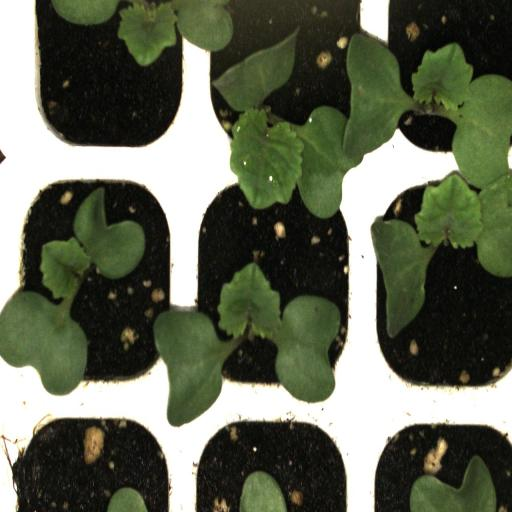Folha: (214, 32, 512, 337), (51, 0, 240, 67), (409, 455, 497, 512), (239, 470, 287, 512)
Germinacao: (184, 160, 363, 408), (0, 161, 174, 400), (363, 161, 512, 404), (197, 0, 371, 163), (372, 0, 512, 164)
